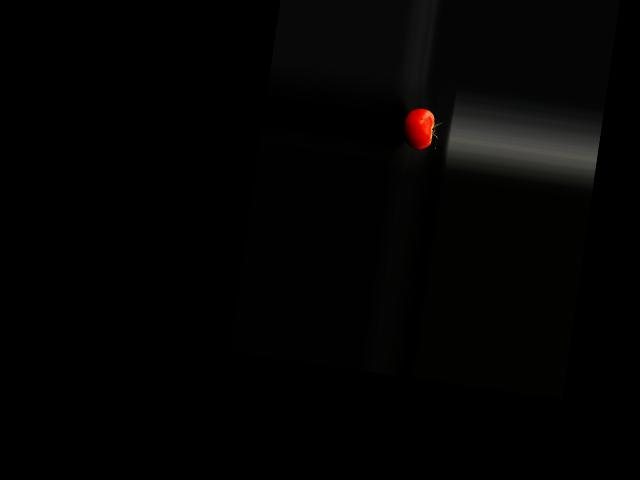tomato: (400, 105, 436, 150)
